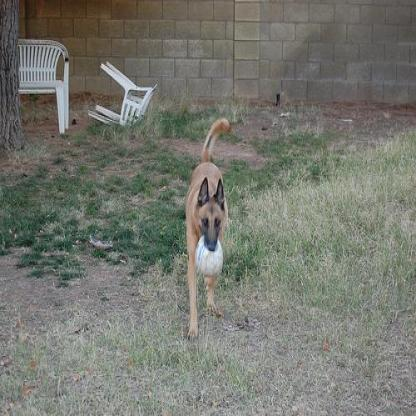malinois: (182, 112, 227, 336)
